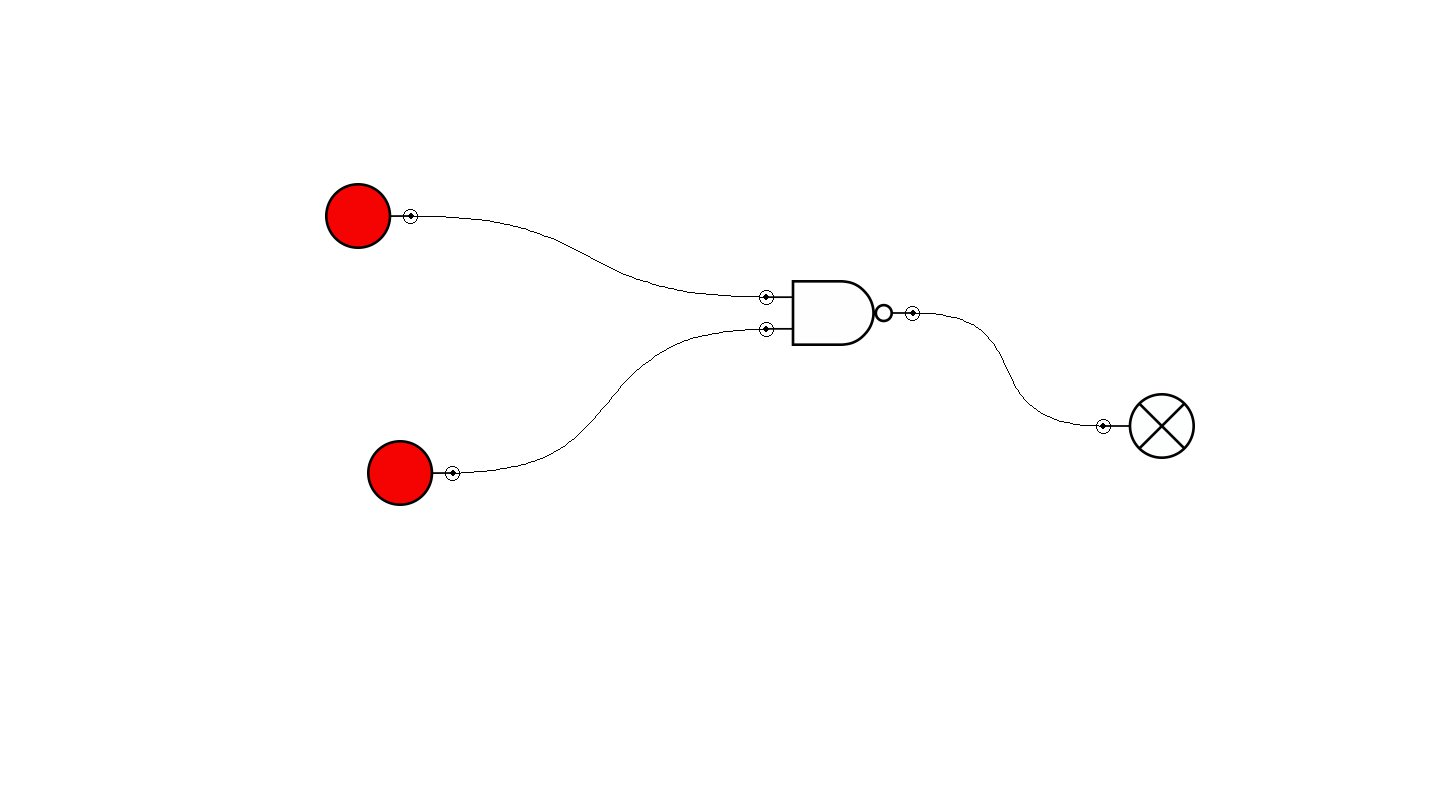bulb: (1096, 393, 1195, 459)
nand: (759, 280, 920, 346)
switch_False: (367, 440, 460, 506), (325, 183, 418, 249)
